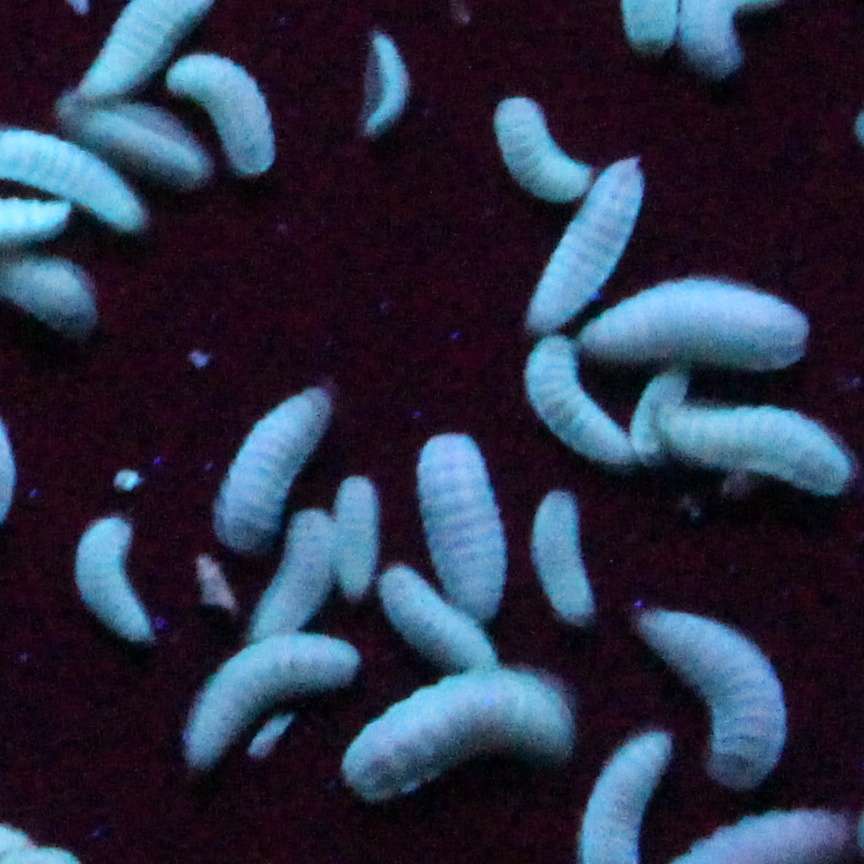larve: (638, 606, 791, 780), (179, 636, 366, 772), (344, 686, 571, 793), (664, 393, 864, 493), (421, 430, 505, 633), (538, 173, 644, 320), (231, 380, 324, 546), (246, 497, 330, 649), (376, 568, 495, 675), (184, 60, 291, 173), (524, 360, 638, 466), (584, 293, 784, 353), (491, 86, 584, 200), (71, 526, 144, 653), (534, 488, 592, 623), (367, 22, 413, 145), (334, 481, 369, 610)
